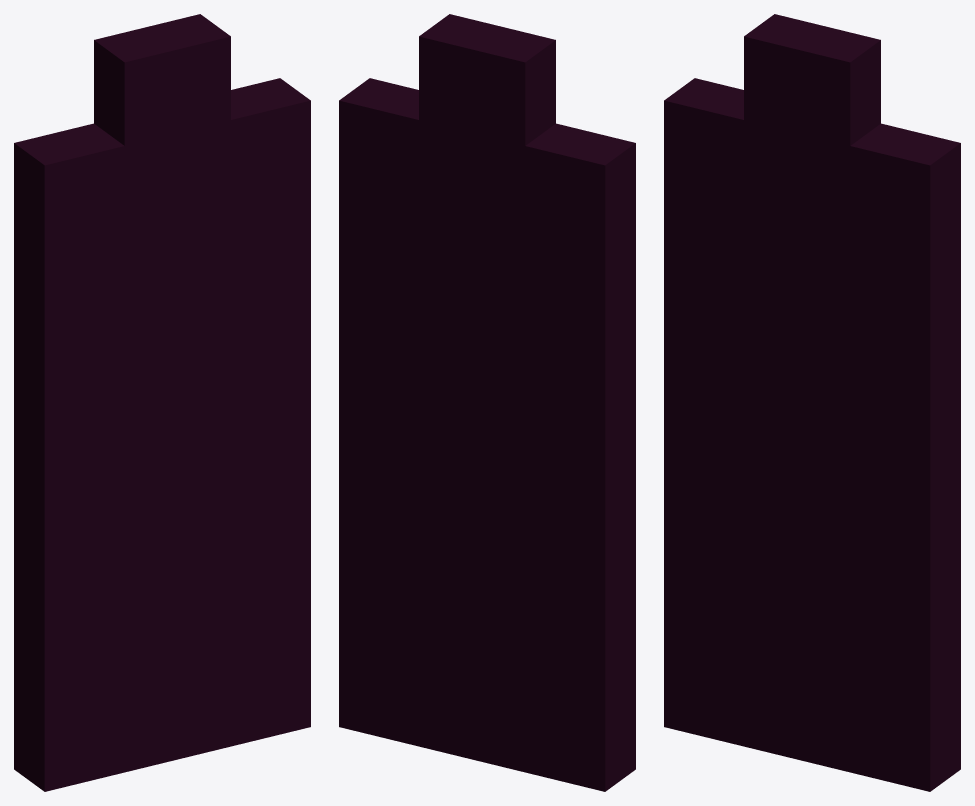
Rendered from Portal_1.dae.
3 views of the same model, side by side, from view 1: azimuth 30°, elevation 25°; view 2: azimuth 150°, elevation 25°; view 3: azimuth 330°, elevation 25° (orthographic).
Visible parts, largest first — view 1: Portal_1; view 2: Portal_1; view 3: Portal_1.
Part boxes in pixels (x1,y1,x2,y2): Portal_1: (14, 14, 310, 791); Portal_1: (339, 14, 635, 791); Portal_1: (664, 14, 960, 791).
Size of the model in its own units: 0.5 by 0.1 by 1.28.
